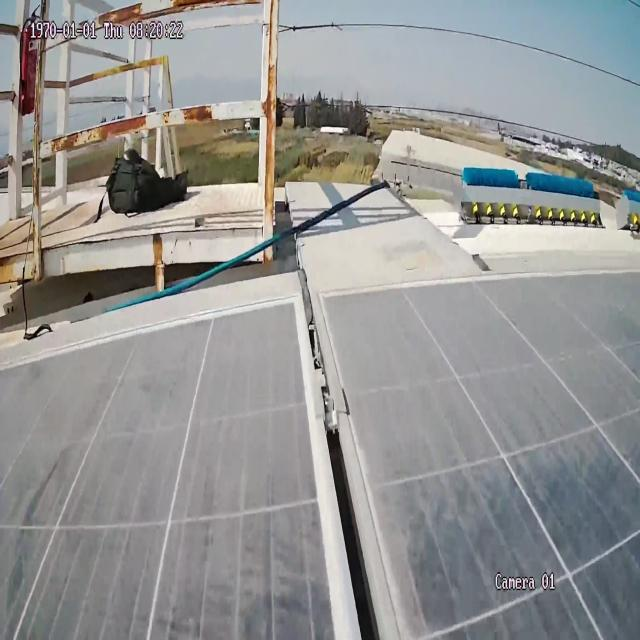interior panel: (283, 277, 464, 640)
